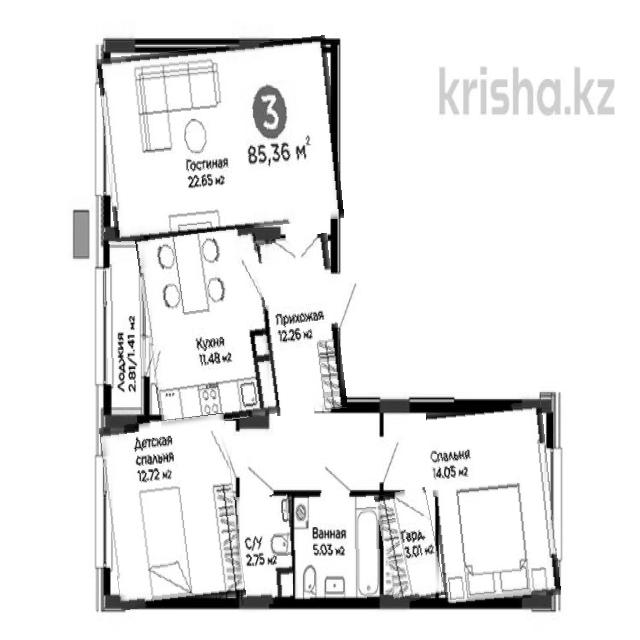balcony: (105, 232, 146, 426)
bathroom: (293, 493, 383, 606), (236, 494, 297, 605)
hallway: (261, 235, 342, 415)
kitchen: (142, 225, 274, 426)
living_room: (102, 41, 340, 237), (105, 417, 241, 607), (431, 403, 556, 604)
other: (379, 489, 441, 603)
